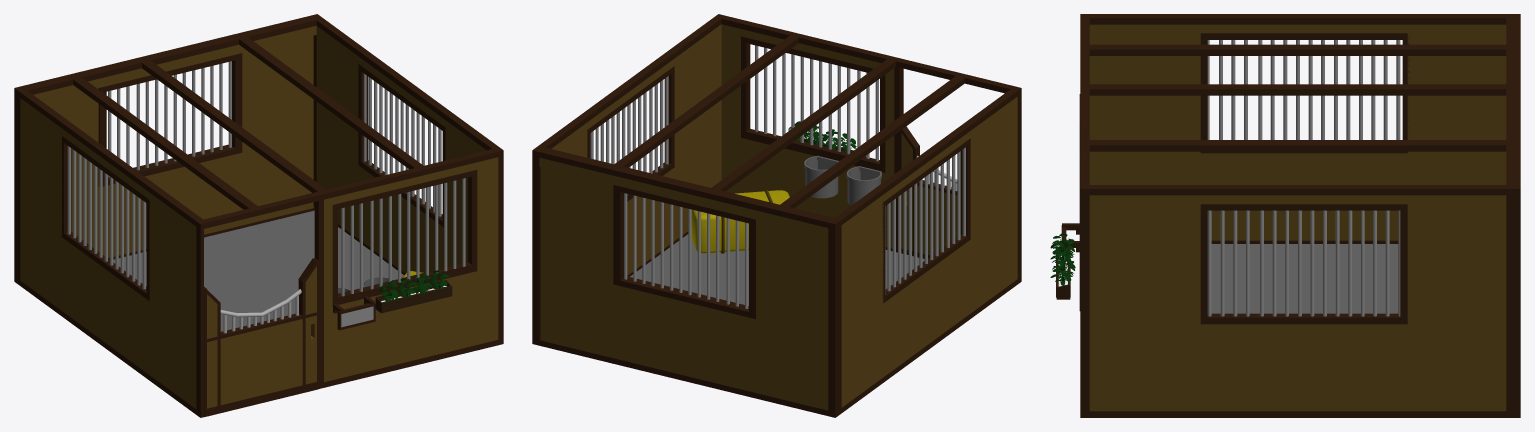
Rendered from stall.glb.
3 views of the same model, side by side, from view 1: azimuth 30°, elevation 25°; view 2: azimuth 150°, elevation 25°; view 3: azimuth 270°, elevation 25° (orthographic). The views are drawn at different scales.
Parts seen in each view (by area): view 1: Object_11, Object_12, Object_9, Object_4, Object_6, Object_2, Object_8; view 2: Object_11, Object_12, Object_9, Object_4, Object_7, Object_5, Object_8; view 3: Object_11, Object_12, Object_9, Object_4, Object_8.
Part boxes in pixels (box(x1,y1,x2,y2)): Object_11: box(20, 25, 498, 408); Object_12: box(14, 14, 503, 417); Object_9: box(67, 61, 465, 327); Object_4: box(113, 210, 403, 331); Object_6: box(375, 280, 452, 313); Object_2: box(220, 289, 301, 333); Object_8: box(380, 270, 449, 302); Object_11: box(539, 24, 1017, 410); Object_12: box(532, 14, 1021, 417); Object_9: box(590, 45, 965, 308); Object_4: box(630, 234, 924, 305); Object_7: box(804, 155, 881, 205); Object_5: box(691, 190, 789, 253); Object_8: box(788, 121, 856, 151); Object_11: box(1089, 24, 1506, 411); Object_12: box(1061, 14, 1520, 417); Object_9: box(1207, 40, 1400, 316); Object_4: box(1211, 244, 1398, 313); Object_8: box(1050, 233, 1075, 285).
Size of the model in its own units: 17.2 by 10.5 by 19.54.
